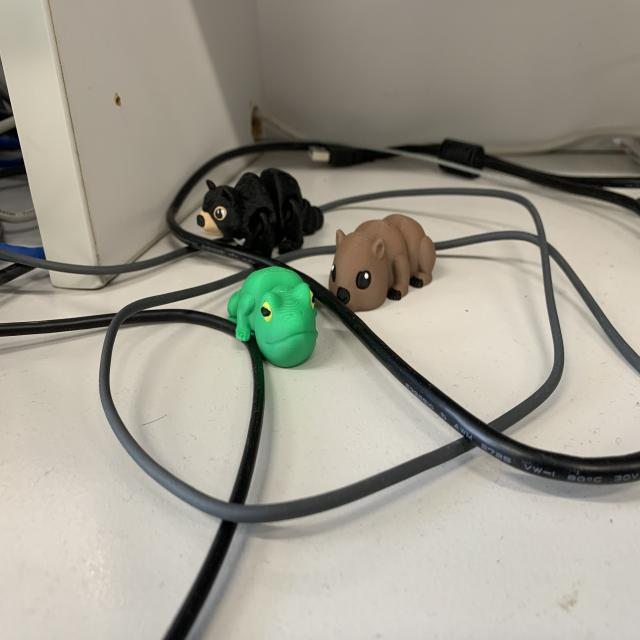frog: (225, 266, 319, 371)
tassie devil: (197, 164, 331, 264)
wombat: (330, 214, 432, 311)
